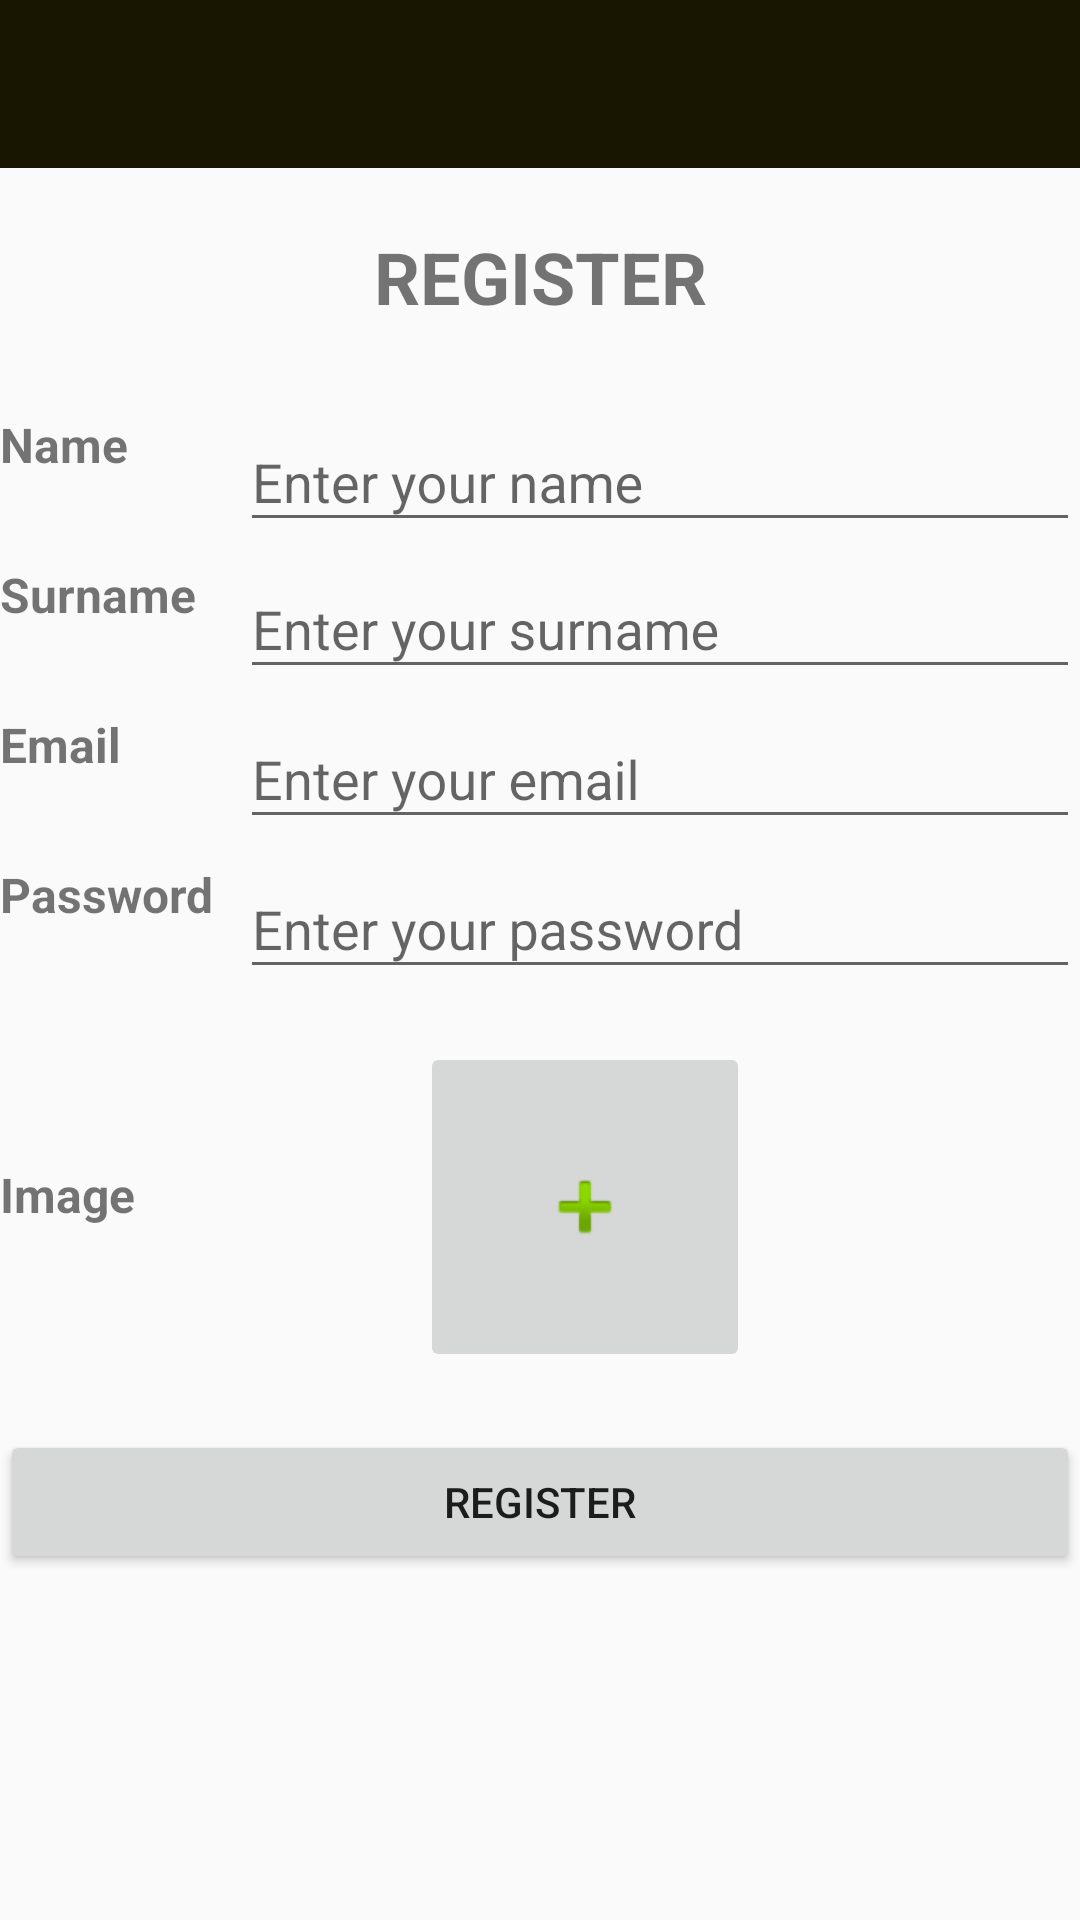

Screen size 1080px x 1920px. Icon name, then its center in pixels as point (x, y):
add: point (585, 1207)
